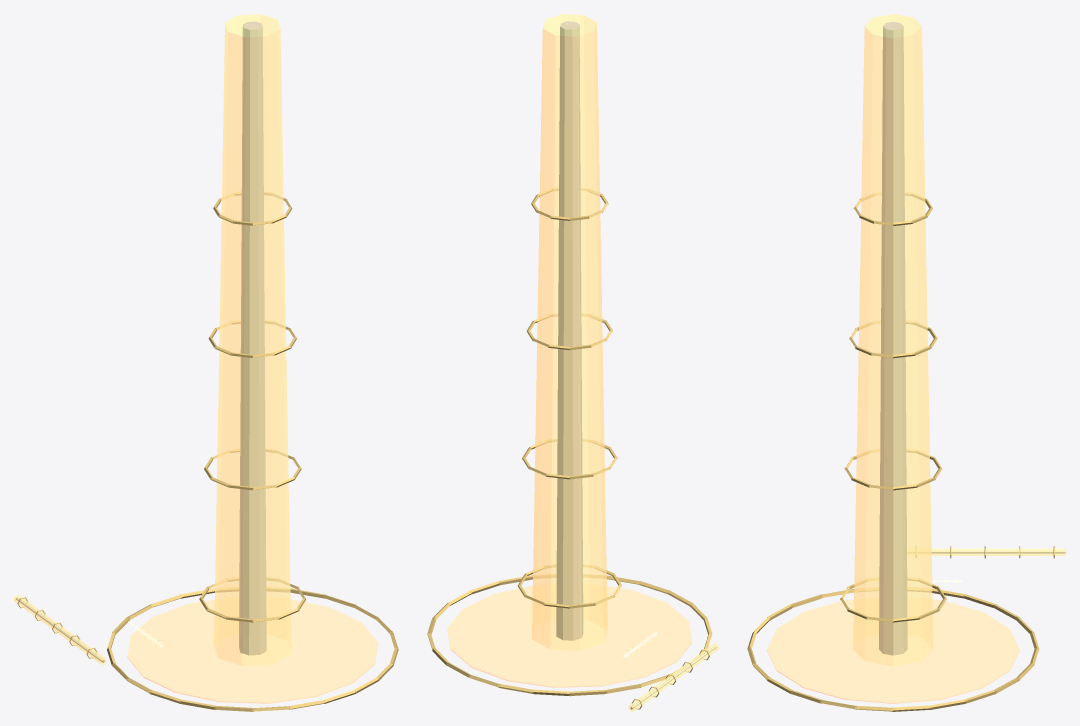
File: FX_AegisBeams.fbx
3 views of the same model, side by side, from view 1: azimuth 30°, elevation 25°; view 2: azimuth 150°, elevation 25°; view 3: azimuth 270°, elevation 25° (orthographic). The views are drawn at different scales.
Visible parts, largest first — view 1: ABeam_OrbGlow, ABeam_OrbImpact, ABeam_OrbCore, ABeam_OrbImpactRing, ABeam_LanceGlow, ABeam_OrbRing0, ABeam_OrbRing1; view 2: ABeam_OrbGlow, ABeam_OrbImpact, ABeam_OrbCore, ABeam_OrbImpactRing, ABeam_LanceGlow, ABeam_OrbRing0, ABeam_OrbRing1, ABeam_OrbRing2, ABeam_OrbRing3; view 3: ABeam_OrbGlow, ABeam_OrbImpact, ABeam_OrbCore, ABeam_OrbImpactRing, ABeam_LanceGlow, ABeam_OrbRing0, ABeam_OrbRing1, ABeam_OrbRing2, ABeam_OrbRing3.
Boxes of the visible parts, left/top/right/bottom form: ABeam_OrbGlow: left=214, top=14, right=291, bottom=665; ABeam_OrbImpact: left=127, top=597, right=378, bottom=703; ABeam_OrbCore: left=239, top=21, right=266, bottom=655; ABeam_OrbImpactRing: left=107, top=587, right=398, bottom=711; ABeam_LanceGlow: left=14, top=595, right=106, bottom=665; ABeam_OrbRing0: left=199, top=577, right=305, bottom=622; ABeam_OrbRing1: left=204, top=449, right=301, bottom=490; ABeam_OrbGlow: left=532, top=14, right=607, bottom=650; ABeam_OrbImpact: left=447, top=583, right=692, bottom=687; ABeam_OrbCore: left=556, top=21, right=583, bottom=640; ABeam_OrbImpactRing: left=427, top=574, right=712, bottom=696; ABeam_LanceGlow: left=628, top=643, right=718, bottom=711; ABeam_OrbRing0: left=517, top=564, right=621, bottom=608; ABeam_OrbRing1: left=522, top=439, right=617, bottom=479; ABeam_OrbRing2: left=526, top=313, right=612, bottom=350; ABeam_OrbRing3: left=531, top=188, right=608, bottom=220; ABeam_OrbGlow: left=853, top=14, right=933, bottom=666; ABeam_OrbImpact: left=767, top=597, right=1019, bottom=703; ABeam_OrbCore: left=879, top=21, right=907, bottom=655; ABeam_OrbImpactRing: left=747, top=587, right=1039, bottom=711; ABeam_LanceGlow: left=907, top=548, right=1065, bottom=555; ABeam_OrbRing0: left=840, top=577, right=946, bottom=622; ABeam_OrbRing1: left=844, top=449, right=941, bottom=490; ABeam_OrbRing2: left=849, top=320, right=937, bottom=358; ABeam_OrbRing3: left=853, top=192, right=932, bottom=225.
Bounding box in the file's own units: 5.65 × 12 × 5.54.
